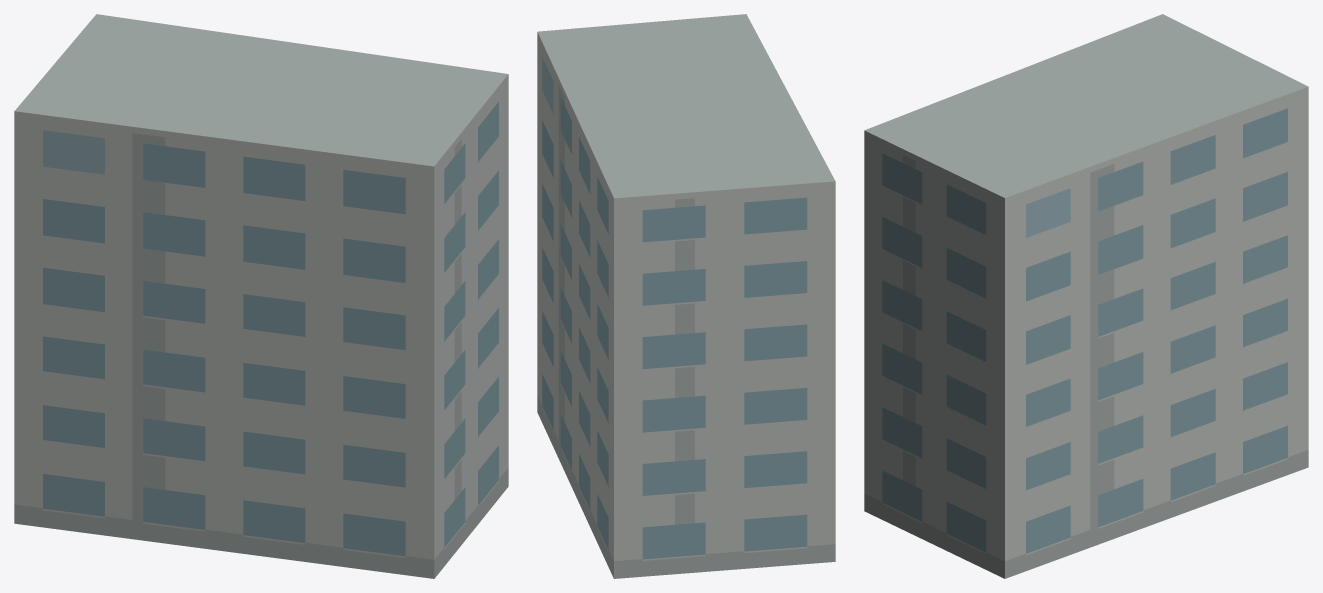
Rendered from survey-upis-32953078.glb.
3 views of the same model, side by side, from view 1: azimuth 30°, elevation 25°; view 2: azimuth 150°, elevation 25°; view 3: azimuth 270°, elevation 25° (orthographic). The views are drawn at different scales.
Parts seen in each view (by area): view 1: survey-upis-32953078.tmp; view 2: survey-upis-32953078.tmp; view 3: survey-upis-32953078.tmp.
Part boxes in pixels (x1,y1,x2,y2): survey-upis-32953078.tmp: (14, 14, 508, 578); survey-upis-32953078.tmp: (537, 14, 835, 578); survey-upis-32953078.tmp: (864, 14, 1308, 578).
Size of the model in its own units: 16.39 by 15.8 by 16.72.
